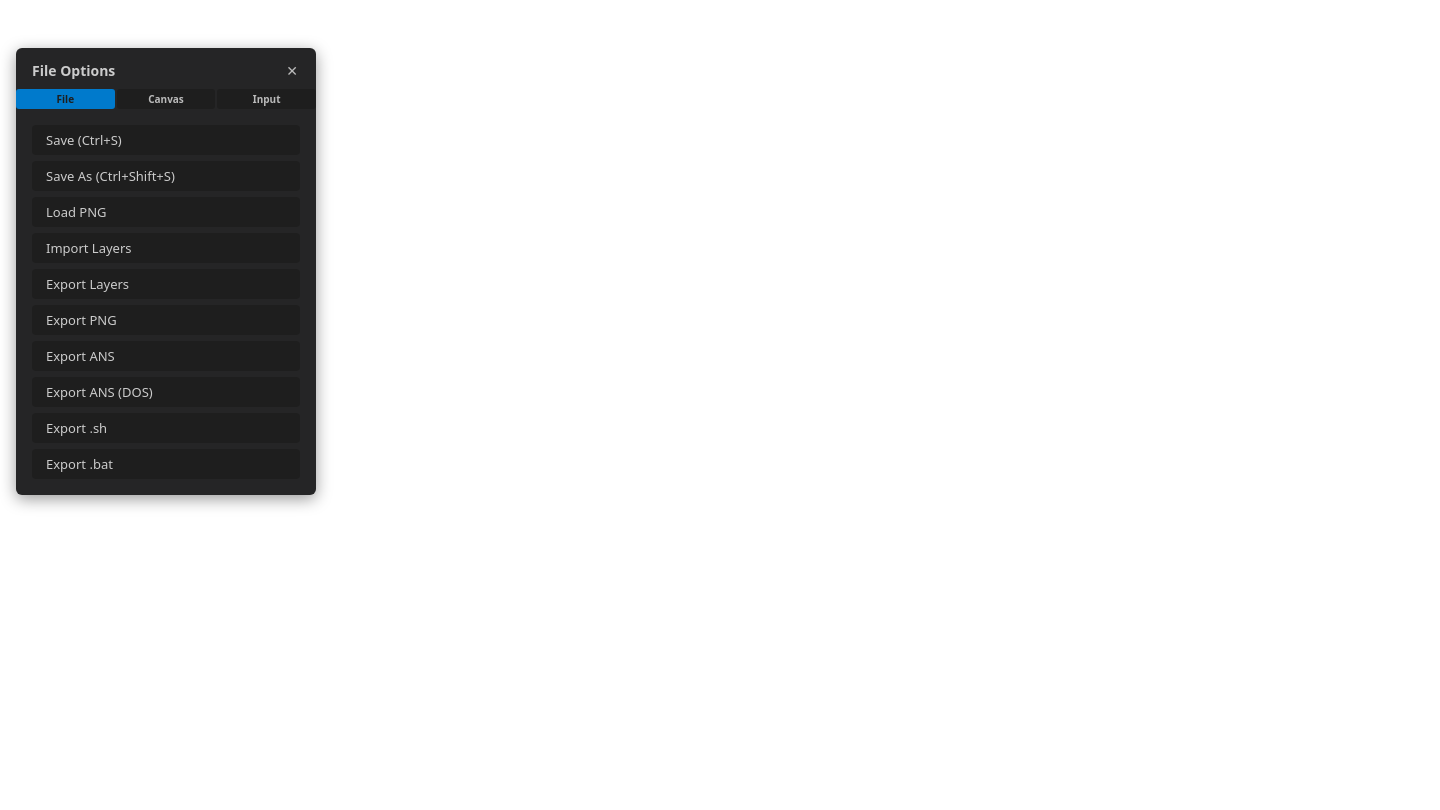
Test: FileOptionsModal › Input tab › renders the eyedropper modifier select with the current value
The image size is (1440, 810).
What coordinates should you click on to do the following:
click the tab with test id "file-options-tab-input"
I would click on:
 (267, 99)
Its box is [217, 89, 316, 109].
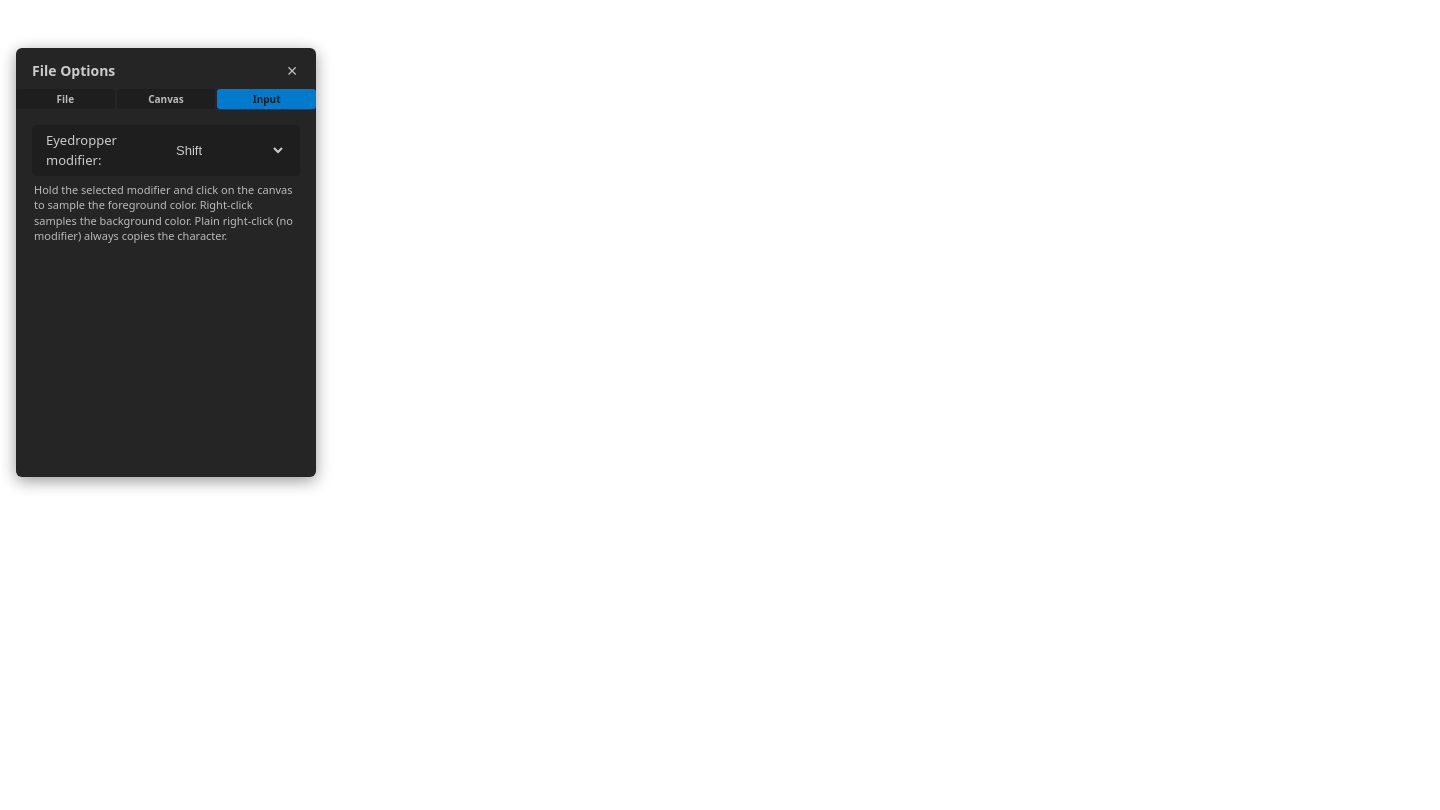
Expected: the dropdown with test id "file-eyedropper-modifier" shows "Shift", [166, 138, 286, 163]
